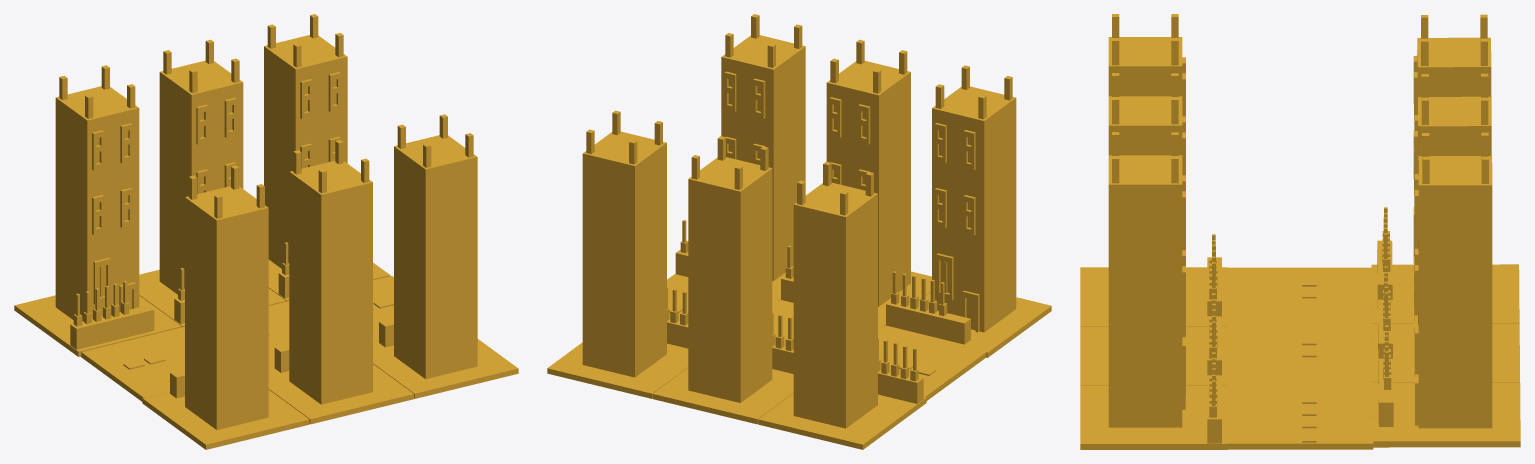
3 views of the same model, side by side, from view 1: azimuth 30°, elevation 25°; view 2: azimuth 150°, elevation 25°; view 3: azimuth 270°, elevation 25° (orthographic). The views are drawn at different scales.
Visible parts, largest first — view 1: Cube; view 2: Cube; view 3: Cube.
Part boxes in pixels (box(x1,y1,x2,y2)): Cube: box(14, 14, 518, 449); Cube: box(547, 14, 1051, 449); Cube: box(1080, 14, 1520, 449).
Bounding box in the file's own units: 121 × 127 × 87.52.
